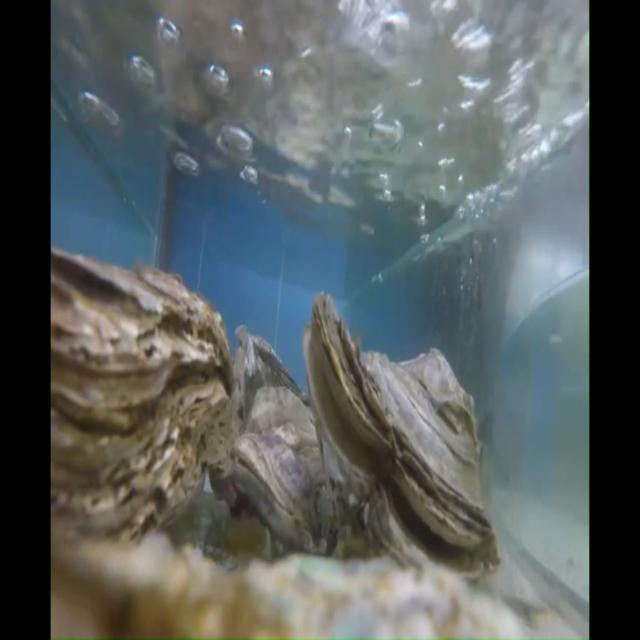Oyster-Closed: (51, 249, 236, 539), (51, 533, 528, 638), (232, 324, 301, 429)
Oyster-Open: (304, 296, 499, 573), (226, 422, 334, 553)
